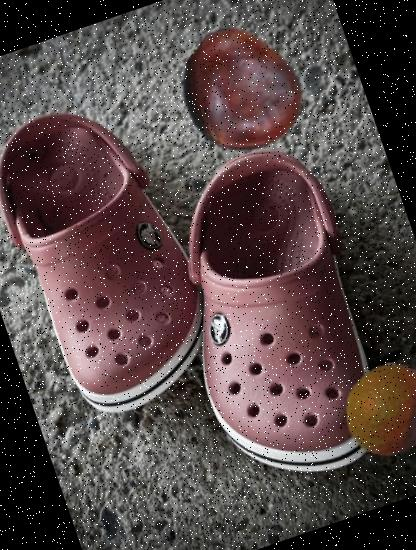Chestnut: (161, 13, 322, 174)
Mandarine: (331, 349, 416, 468)
